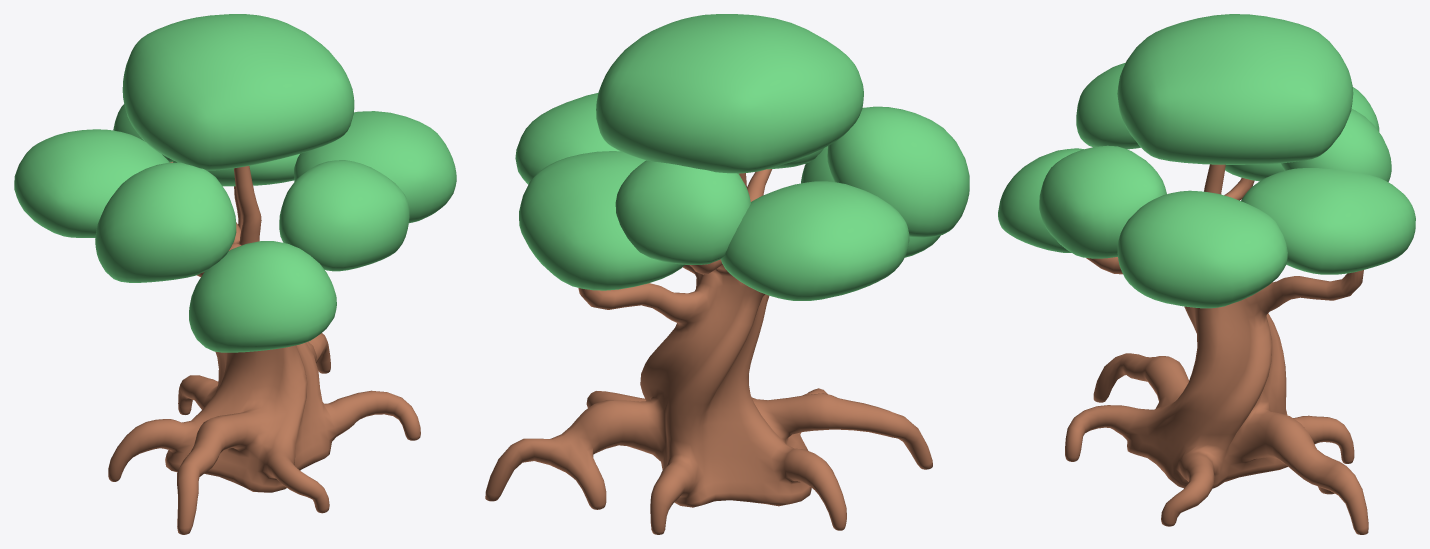
Rendered from TreeGiant_B_01.fbx.
The picture shows the model from 3 angles, left to right: view 1: azimuth 30°, elevation 25°; view 2: azimuth 150°, elevation 25°; view 3: azimuth 270°, elevation 25°; orthographic projection. The views are drawn at different scales.
Parts seen in each view (by area): view 1: TreeGiant_B_01_LOD0; view 2: TreeGiant_B_01_LOD0; view 3: TreeGiant_B_01_LOD0.
Boxes of the visible parts, x1,y1,x2,y2 form: TreeGiant_B_01_LOD0: (14, 14, 456, 534); TreeGiant_B_01_LOD0: (485, 14, 969, 534); TreeGiant_B_01_LOD0: (998, 14, 1415, 534).
Size of what is drawn, in the model's own units: 1919 by 2072 by 1828.
